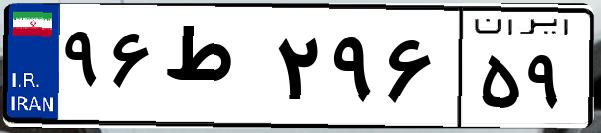2: (270, 28, 330, 110)
5: (475, 38, 525, 113)
6: (385, 28, 445, 110), (110, 28, 158, 98)
9: (330, 28, 385, 110), (57, 26, 110, 100), (525, 38, 570, 115)
ط: (158, 20, 270, 120)
